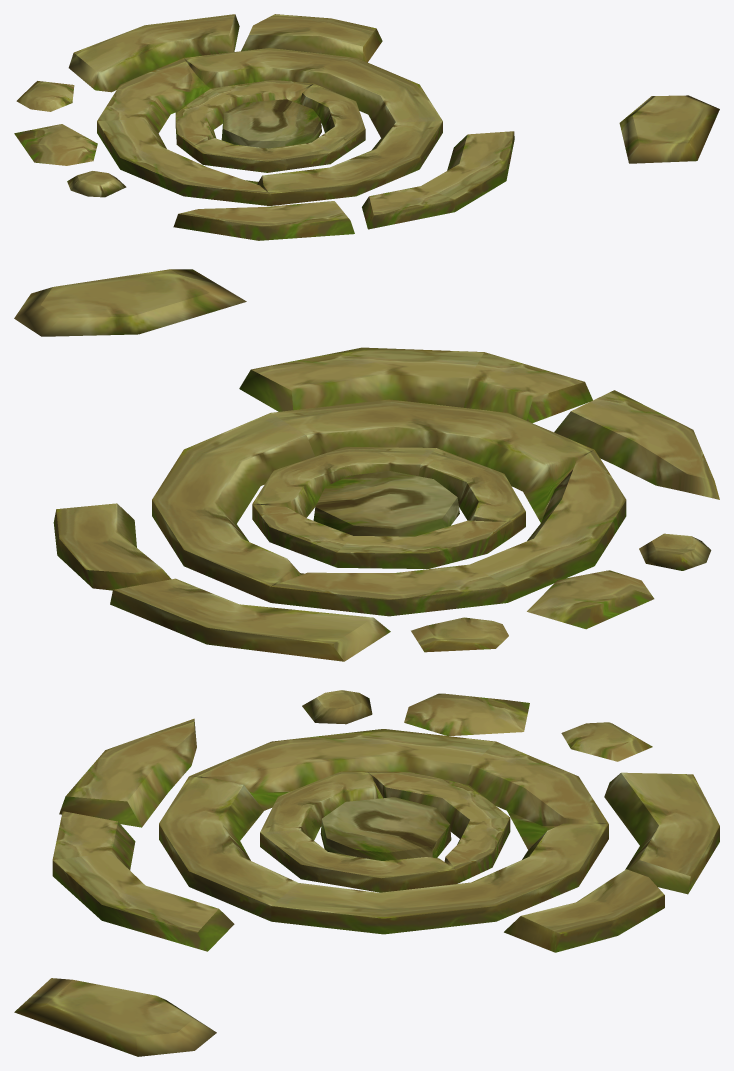
File: loyalismwood_platform01.FBX
The picture shows the model from 3 angles, top to bottom: view 1: azimuth 30°, elevation 25°; view 2: azimuth 150°, elevation 25°; view 3: azimuth 270°, elevation 25°; orthographic projection. The views are drawn at different scales.
Parts seen in each view (by area): view 1: loyalismwood_platform01; view 2: loyalismwood_platform01; view 3: loyalismwood_platform01.
Part boxes in pixels (x1,y1,x2,y2): loyalismwood_platform01: (14,14,719,240); loyalismwood_platform01: (14,269,719,661); loyalismwood_platform01: (14,690,719,1056).
Bounding box in the file's own units: 726 × 598 × 21.31.
